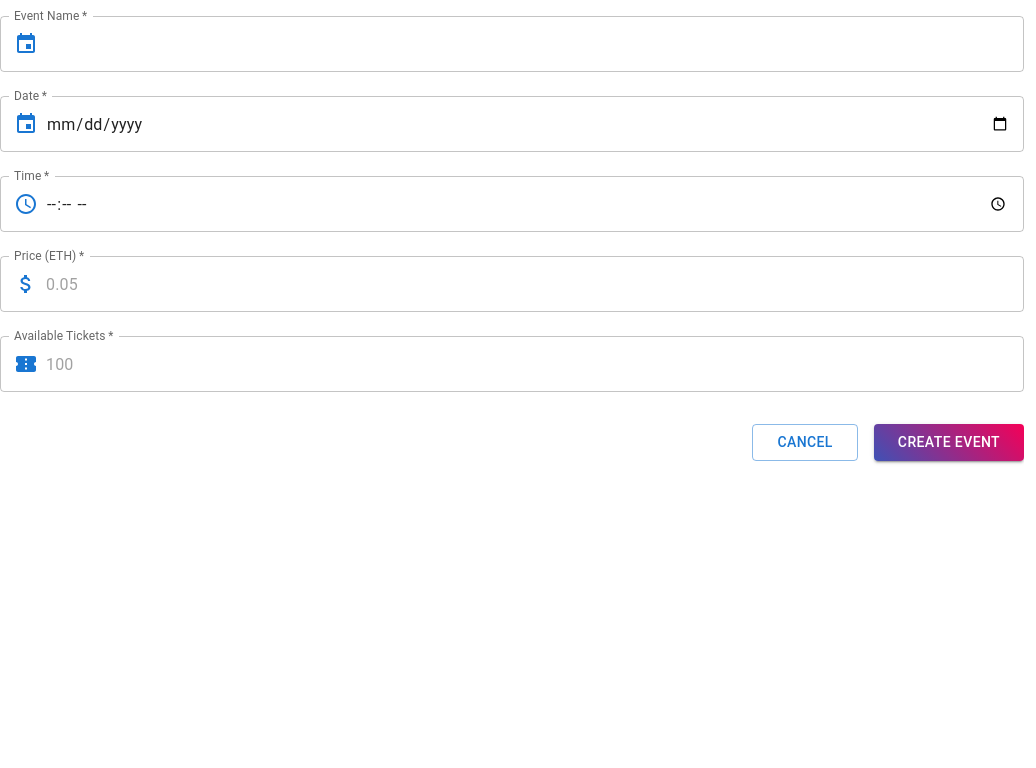
it: NewEventForm › shows validation errors on empty submit
This screenshot has width=1036, height=768.
Click the button "Create Event" at {"x": 949, "y": 442}, box [874,424,1024,460]
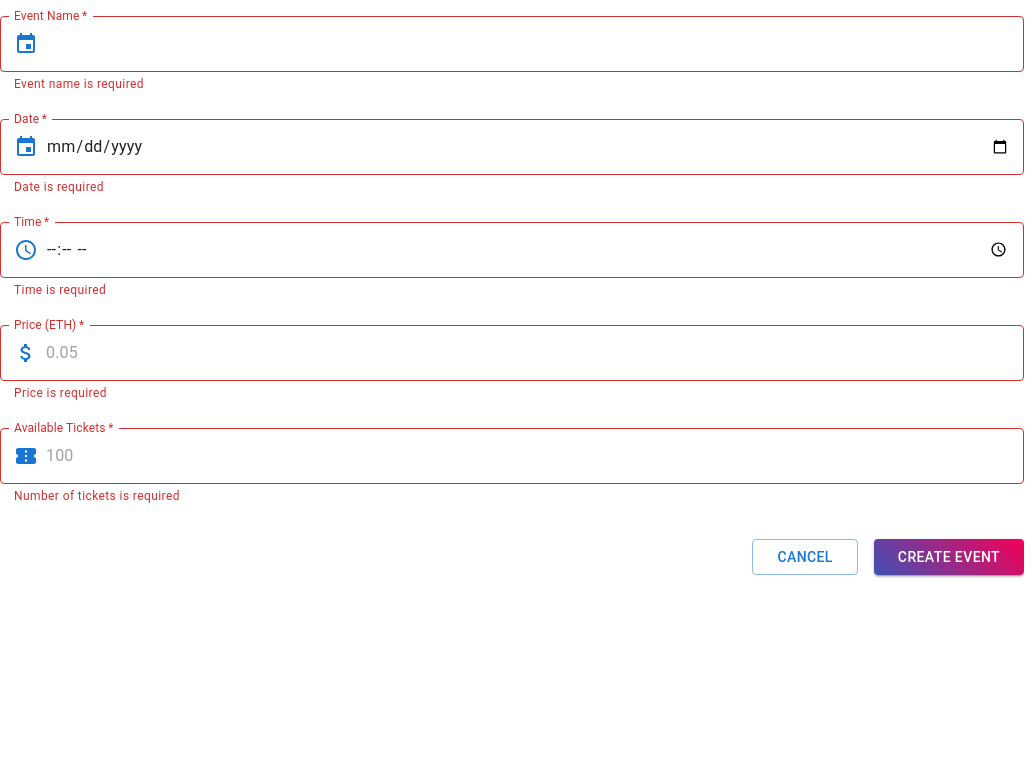
Expected: the text "Event name is required" is shown, [14,77,144,91]
Expected: the text "Date is required" is shown, [14,180,104,194]
Expected: the text "Time is required" is shown, [14,283,106,297]
